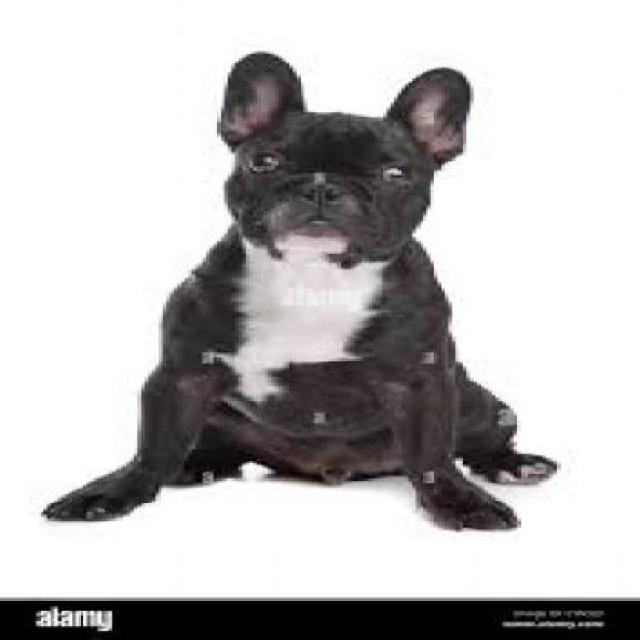animals: (44, 41, 564, 538)
